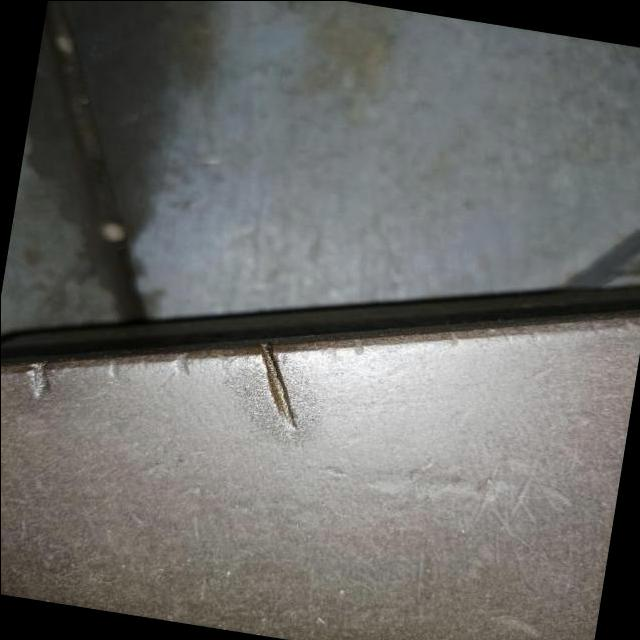defect: (257, 340, 297, 425)
